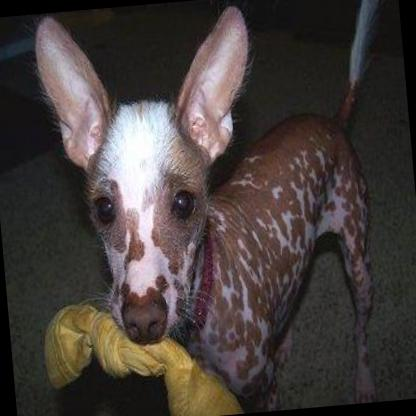Mexican_hairless: (29, 0, 384, 416)
